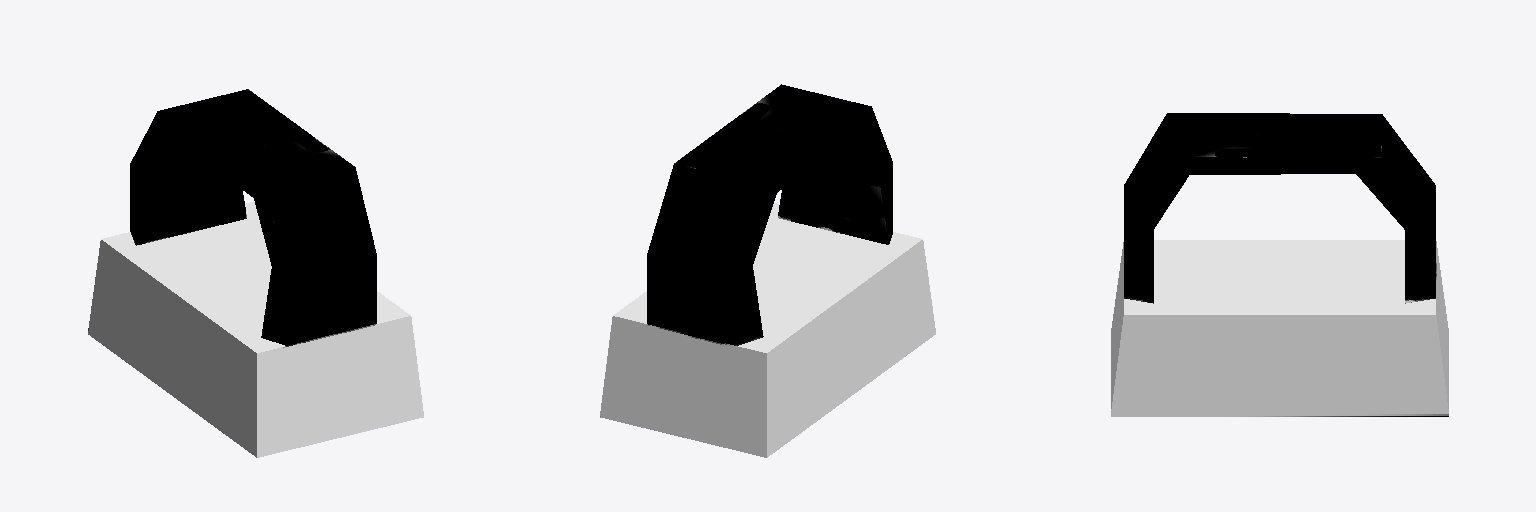
The picture shows the model from 3 angles: view 1: azimuth 30°, elevation 25°; view 2: azimuth 150°, elevation 25°; view 3: azimuth 270°, elevation 25°; orthographic projection.
Visible parts, largest first — view 1: VRHeadset; view 2: VRHeadset; view 3: VRHeadset.
Boxes of the visible parts, box(x1,y1,x2,y2) form: VRHeadset: box(88, 89, 423, 457); VRHeadset: box(600, 84, 935, 457); VRHeadset: box(1111, 113, 1448, 416).
Bounding box in the file's own units: 1.36 × 1.87 × 2.39.
Materials: 1 (1 with a texture image).